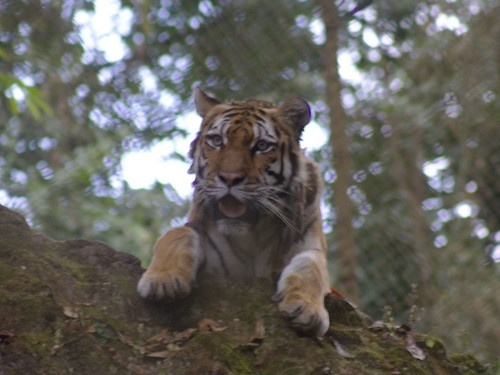tigre: (133, 81, 343, 343)
